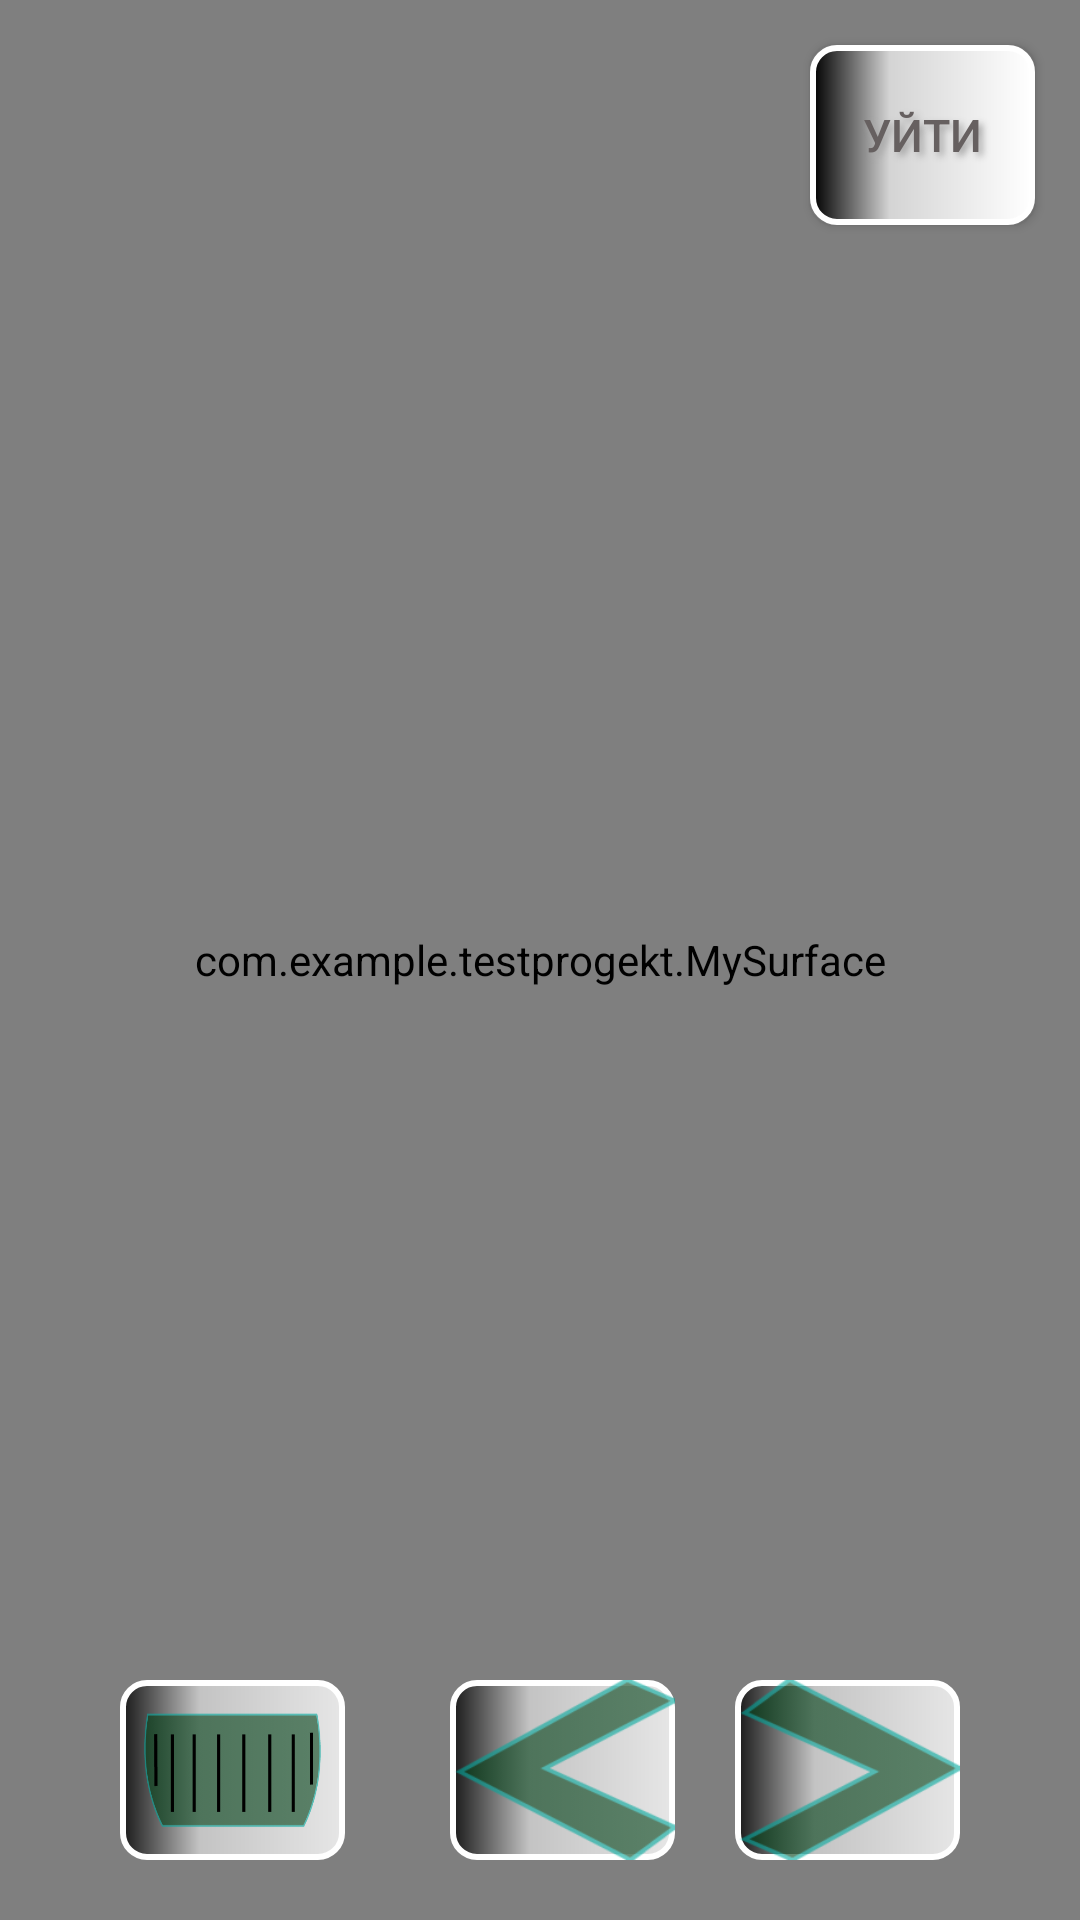

Icons on this 1080 × 1920 Android screen, each with its box as (x1, y1, x2, y2):
brake: (120, 1680, 345, 1860)
to left: (450, 1680, 675, 1860)
to right: (735, 1680, 960, 1860)
